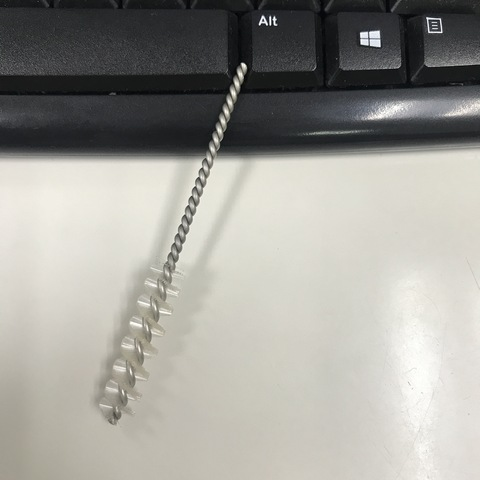Twist Brush-B: (100, 60, 252, 431)
